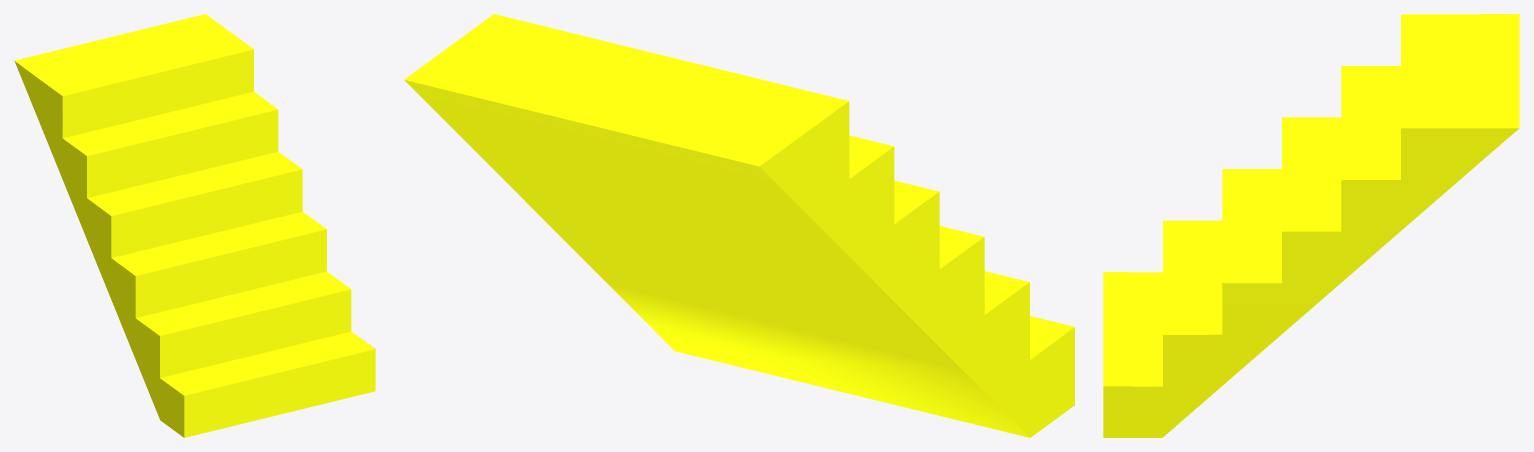
Rendered from 0a55ead6-e740-4d51-a38c-34e51cd74c1b.glb.
3 renders of one model, left to right at view 1: azimuth 30°, elevation 25°; view 2: azimuth 150°, elevation 25°; view 3: azimuth 270°, elevation 25°, orthographic. The views are drawn at different scales.
Parts seen in each view (by area): view 1: BaseStairs.003; view 2: BaseStairs.003; view 3: BaseStairs.003.
Boxes of the visible parts, x1=… form: BaseStairs.003: x1=14, y1=14, x2=375, y2=437; BaseStairs.003: x1=404, y1=14, x2=1074, y2=437; BaseStairs.003: x1=1103, y1=14, x2=1519, y2=437.
Size of what is drawn, in the model's own units: 1.36 by 1.71 by 2.09.
Materials: 1 (1 with a texture image).
